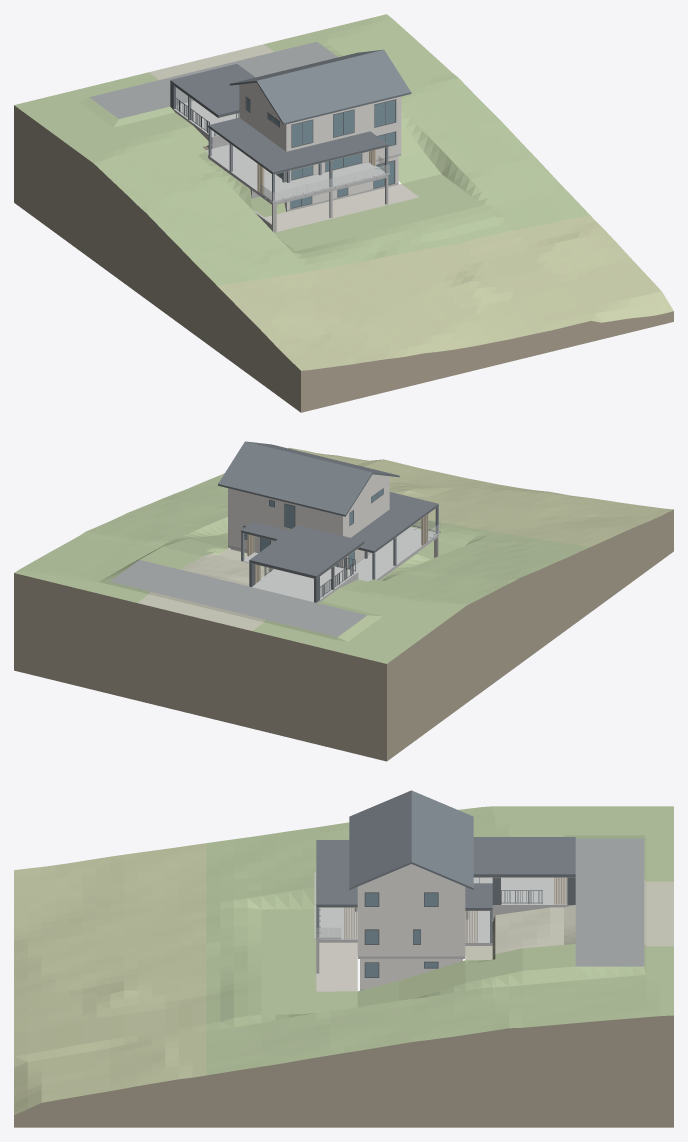
The model's file is Schaffernak_Haus_A.glb.
3 renders of one model, top to bottom at view 1: azimuth 30°, elevation 25°; view 2: azimuth 150°, elevation 25°; view 3: azimuth 270°, elevation 25°, orthographic. The views are drawn at different scales.
Parts seen in each view (by area): view 1: Foto_Gelaende_Rasen_Boeschung, Foto_Gelaende_Hang_unten, Foto_Gelaende_Modellrand, Satteldach_0, Strasse_parallel_zum_Haus_schematisch, Foto_Gelaende_Kies_Kellerbereich, Entwurf_Dach_vorne, Carport_Dach, Balkon_vorne, Foto_Gelaende_Seitliche_Gruenflaeche, Entwurf_Dach_links, Foto_Gelaende_Rueckseite (+3 smaller); view 2: Foto_Gelaende_Modellrand, Foto_Gelaende_Rasen_Boeschung, Foto_Gelaende_Hang_unten, Strasse_parallel_zum_Haus_schematisch, Satteldach_1, Foto_Gelaende_Rueckseite, Carport_Dach, Foto_Gelaende_Seitliche_Gruenflaeche, Carport_Boden, Entwurf_Dach_links, Balkon_links, OG_back_Wand0 (+5 smaller); view 3: Foto_Gelaende_Rasen_Boeschung, Foto_Gelaende_Modellrand, Foto_Gelaende_Hang_unten, Strasse_parallel_zum_Haus_schematisch, Foto_Gelaende_Rueckseite, Foto_Gelaende_Seitliche_Gruenflaeche, Satteldach_0, Satteldach_1, Carport_Dach, Entwurf_Dach_vorne, Foto_Gelaende_Kies_Kellerbereich, Carport_Boden (+9 smaller).
Boxes of the visible parts, x1=… form: Foto_Gelaende_Rasen_Boeschung: x1=14, y1=14, x2=589, y2=285; Foto_Gelaende_Hang_unten: x1=217, y1=215, x2=673, y2=370; Foto_Gelaende_Modellrand: x1=14, y1=105, x2=673, y2=412; Satteldach_0: x1=256, y1=50, x2=411, y2=124; Strasse_parallel_zum_Haus_schematisch: x1=89, y1=41, x2=337, y2=118; Foto_Gelaende_Kies_Kellerbereich: x1=265, y1=184, x2=418, y2=231; Entwurf_Dach_vorne: x1=255, y1=131, x2=388, y2=174; Carport_Dach: x1=171, y1=64, x2=254, y2=114; Balkon_vorne: x1=255, y1=162, x2=388, y2=205; Foto_Gelaende_Seitliche_Gruenflaeche: x1=264, y1=34, x2=440, y2=183; Entwurf_Dach_links: x1=208, y1=117, x2=285, y2=160; Foto_Gelaende_Rueckseite: x1=149, y1=44, x2=273, y2=79; Foto_Gelaende_Modellrand: x1=14, y1=509, x2=673, y2=761; Foto_Gelaende_Rasen_Boeschung: x1=14, y1=476, x2=589, y2=663; Foto_Gelaende_Hang_unten: x1=218, y1=447, x2=673, y2=546; Strasse_parallel_zum_Haus_schematisch: x1=110, y1=560, x2=366, y2=636; Satteldach_1: x1=218, y1=441, x2=372, y2=516; Foto_Gelaende_Rueckseite: x1=137, y1=549, x2=272, y2=630; Carport_Dach: x1=250, y1=525, x2=363, y2=575; Foto_Gelaende_Seitliche_Gruenflaeche: x1=97, y1=533, x2=229, y2=602; Carport_Boden: x1=252, y1=569, x2=352, y2=602; Entwurf_Dach_links: x1=351, y1=509, x2=420, y2=552; Balkon_links: x1=351, y1=540, x2=420, y2=580; OG_back_Wand0: x1=295, y1=504, x2=345, y2=535; Foto_Gelaende_Rasen_Boeschung: x1=206, y1=806, x2=673, y2=1075; Foto_Gelaende_Modellrand: x1=14, y1=1015, x2=673, y2=1127; Foto_Gelaende_Hang_unten: x1=14, y1=843, x2=206, y2=1115; Strasse_parallel_zum_Haus_schematisch: x1=575, y1=838, x2=644, y2=966; Foto_Gelaende_Rueckseite: x1=465, y1=879, x2=673, y2=960; Foto_Gelaende_Seitliche_Gruenflaeche: x1=357, y1=944, x2=673, y2=1007; Satteldach_0: x1=349, y1=790, x2=411, y2=889; Satteldach_1: x1=411, y1=790, x2=473, y2=889; Carport_Dach: x1=473, y1=837, x2=575, y2=874; Entwurf_Dach_vorne: x1=316, y1=840, x2=357, y2=907; Foto_Gelaende_Kies_Kellerbereich: x1=316, y1=942, x2=357, y2=991; Carport_Boden: x1=492, y1=877, x2=573, y2=906.
Bounding box in the file's own units: 36 × 16.06 × 48.
